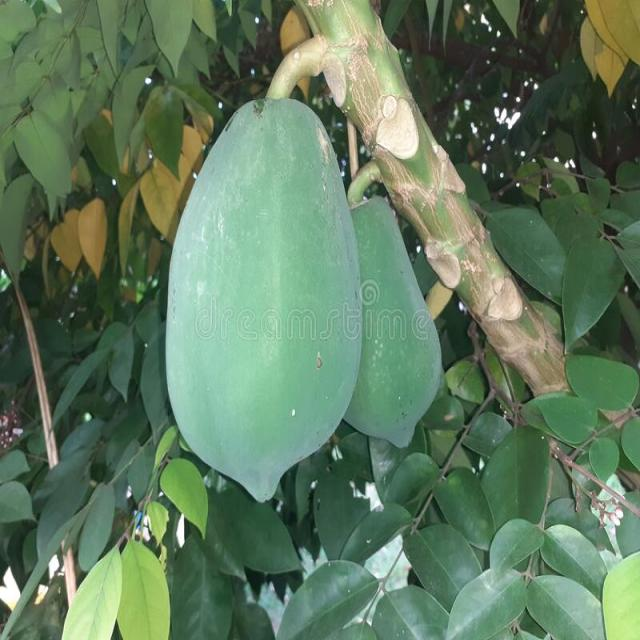Pepaya unrippen: (155, 100, 362, 505), (350, 198, 450, 474)
